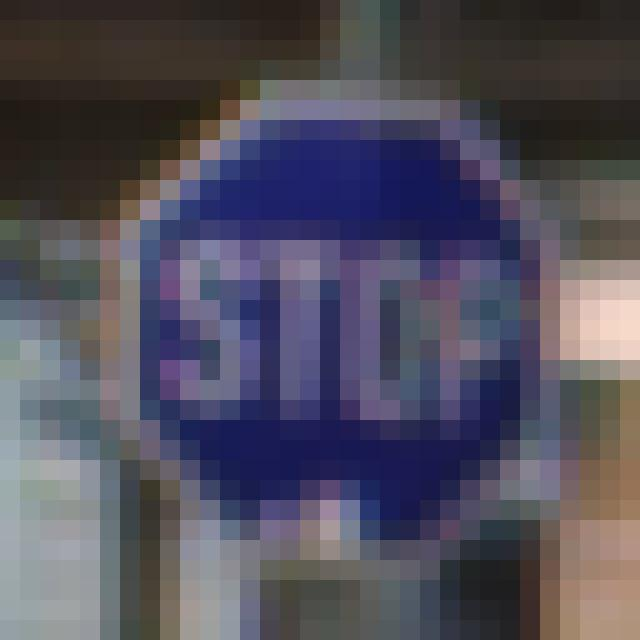STOP: (113, 99, 550, 550)
